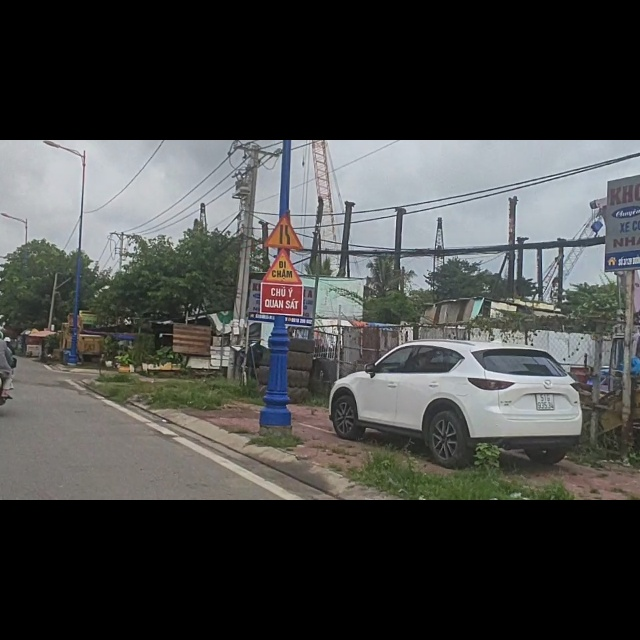bien_nguy_hiem: (263, 194, 304, 257), (263, 133, 304, 194)
